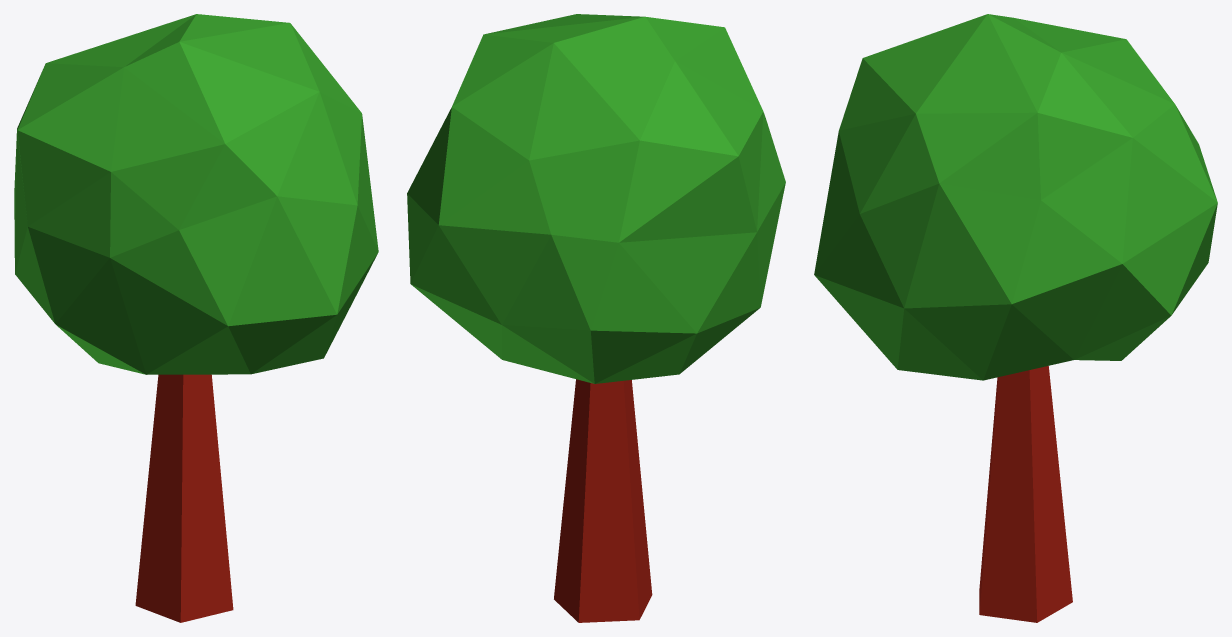
Rendered from beech_tree.obj.
3 views of the same model, side by side, from view 1: azimuth 30°, elevation 25°; view 2: azimuth 150°, elevation 25°; view 3: azimuth 270°, elevation 25° (orthographic).
Parts seen in each view (by area): view 1: Cylinder_Cylinder.001_Leaves, Cylinder_Cylinder.001_Trunk; view 2: Cylinder_Cylinder.001_Leaves, Cylinder_Cylinder.001_Trunk; view 3: Cylinder_Cylinder.001_Leaves, Cylinder_Cylinder.001_Trunk.
Boxes of the visible parts, left/top/right/bottom form: Cylinder_Cylinder.001_Leaves: left=14, top=14, right=378, bottom=374; Cylinder_Cylinder.001_Trunk: left=135, top=374, right=233, bottom=622; Cylinder_Cylinder.001_Leaves: left=407, top=14, right=785, bottom=383; Cylinder_Cylinder.001_Trunk: left=554, top=379, right=652, bottom=622; Cylinder_Cylinder.001_Leaves: left=814, top=14, right=1217, bottom=380; Cylinder_Cylinder.001_Trunk: left=979, top=366, right=1072, bottom=622.
Size of the model in its own units: 9.76 by 16.5 by 10.47.
